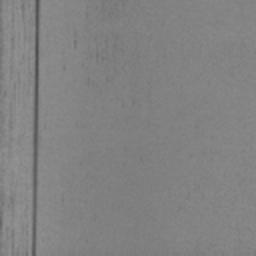Scratches: (32, 0, 40, 256)
